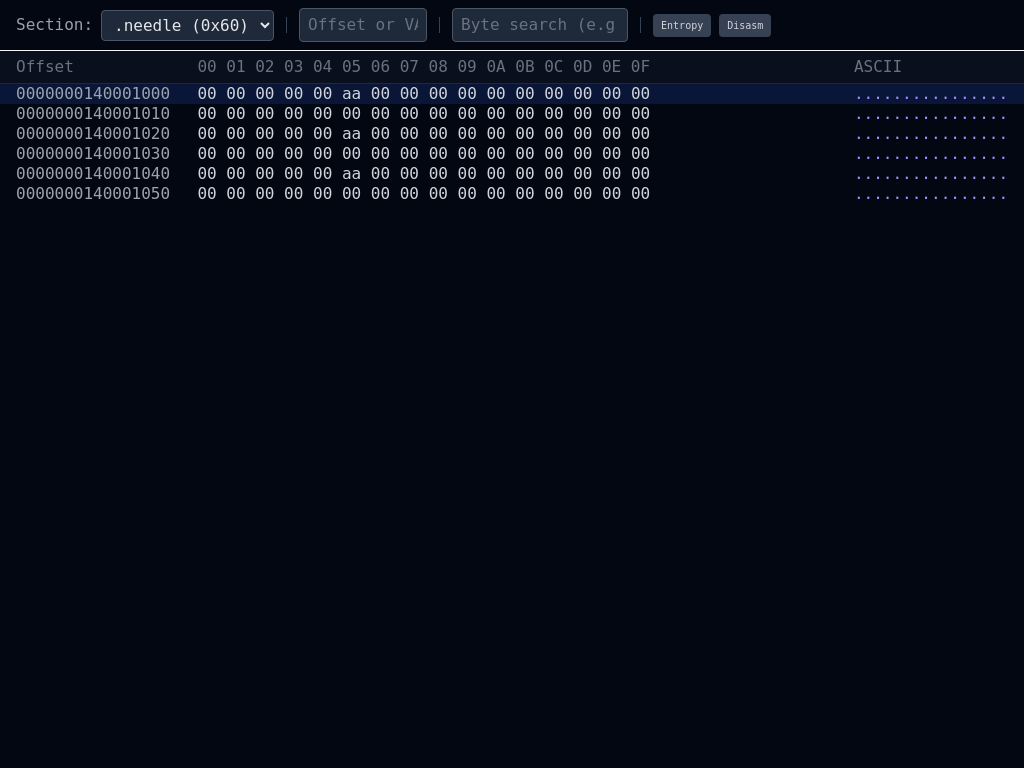
HexView byte search navigation › steps backward to the LAST match from a cursor that is nowhere yet
Type "AA" into the field with placeholder "Byte search (e.g. 4D 5A ?? 00)..." at (540, 25), box [452,8,628,42]
Wait 150 ms
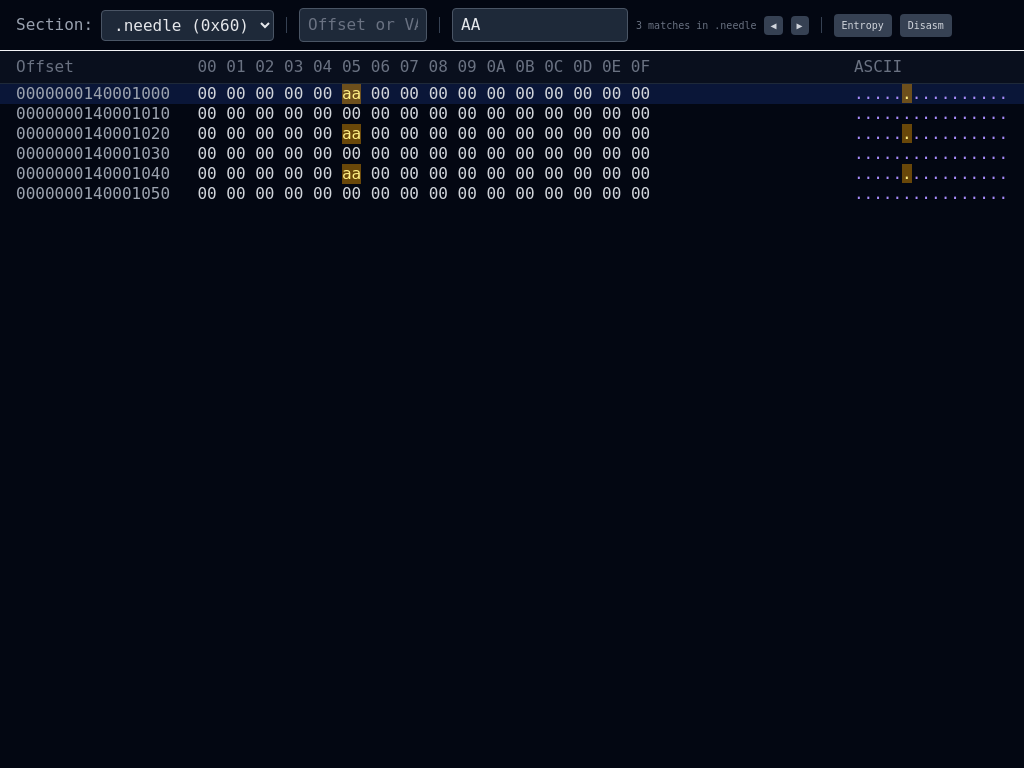
Click the button named "Previous match" at (774, 25), box [764,16,782,34]
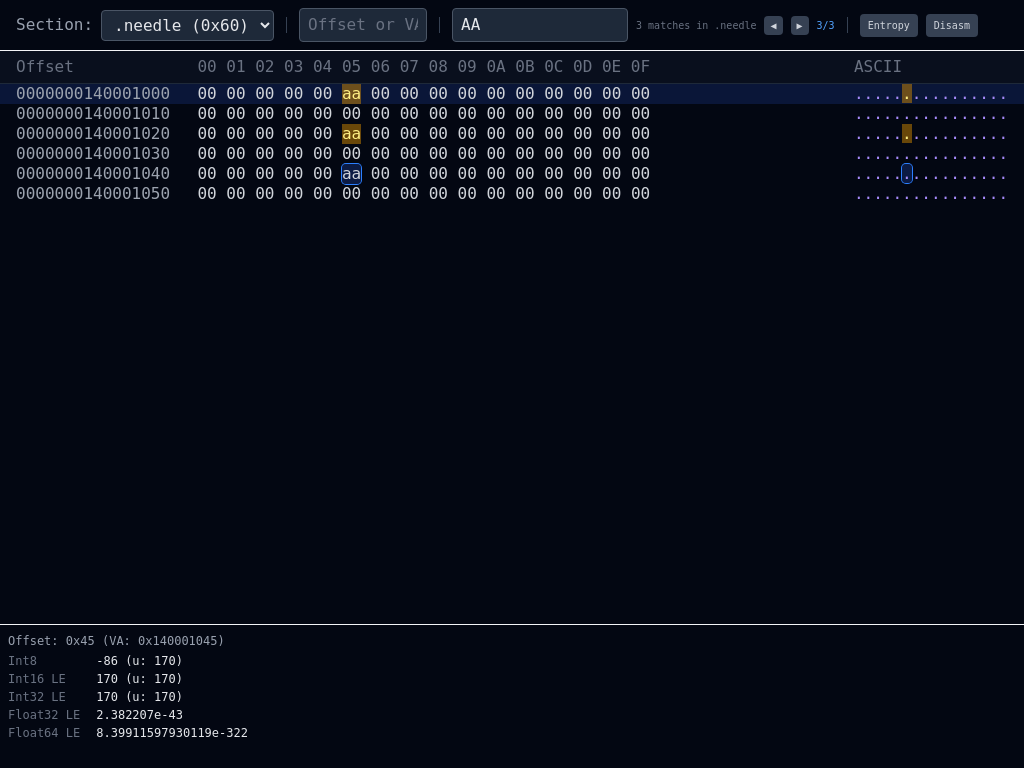
Check: the text "3/3" is shown, box [816,18,835,32]
Click the button named "Previous match" at (774, 25), box [764,16,782,34]
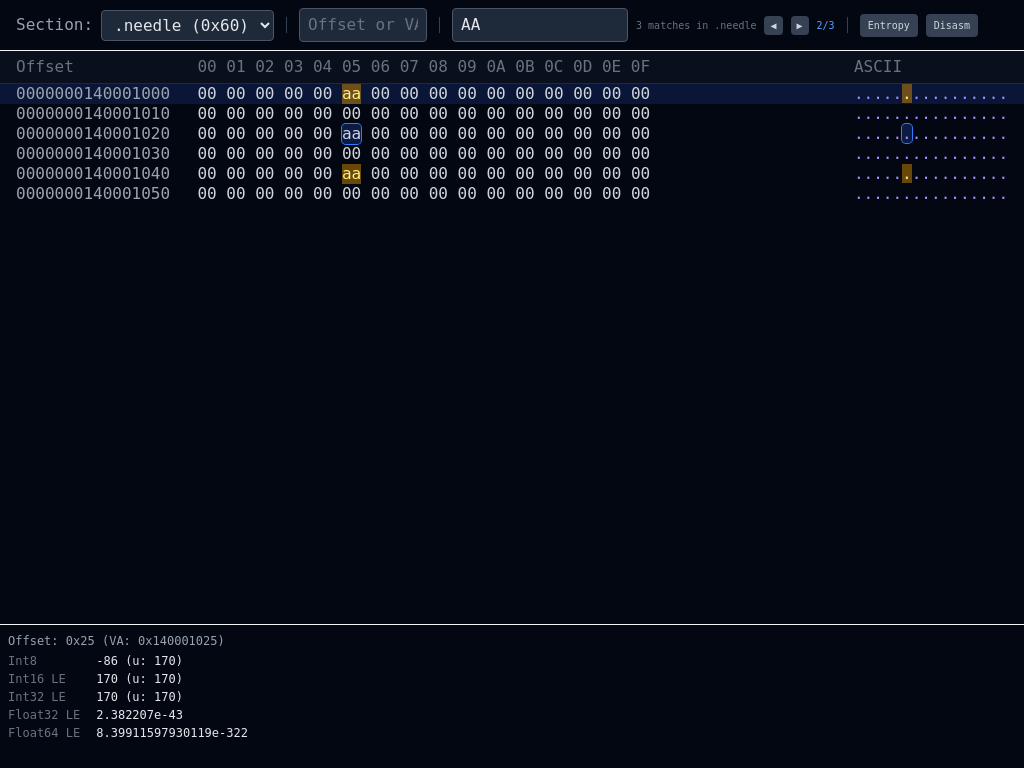
Check: the text "2/3" is shown, box [816,18,835,32]
